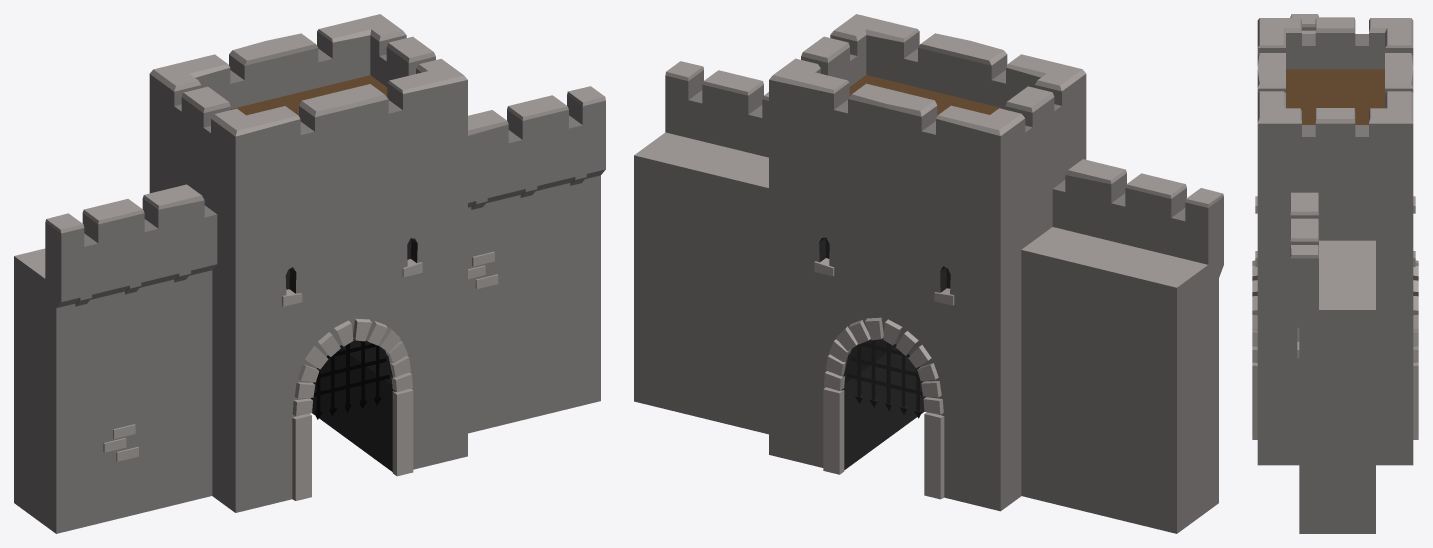
Rendered from gate-medieval-small.glb.
The picture shows the model from 3 angles, left to right: view 1: azimuth 30°, elevation 25°; view 2: azimuth 150°, elevation 25°; view 3: azimuth 270°, elevation 25°; orthographic projection. The views are drawn at different scales.
Parts seen in each view (by area): view 1: gate-medieval_small; view 2: gate-medieval_small; view 3: gate-medieval_small.
Part boxes in pixels (x1=…): gate-medieval_small: x1=14, y1=14, x2=605, y2=533; gate-medieval_small: x1=634, y1=14, x2=1223, y2=533; gate-medieval_small: x1=1252, y1=14, x2=1418, y2=533.
Bounding box in the file's own units: 15.75 × 10.52 × 4.59.
Materials: 1 (1 with a texture image).
